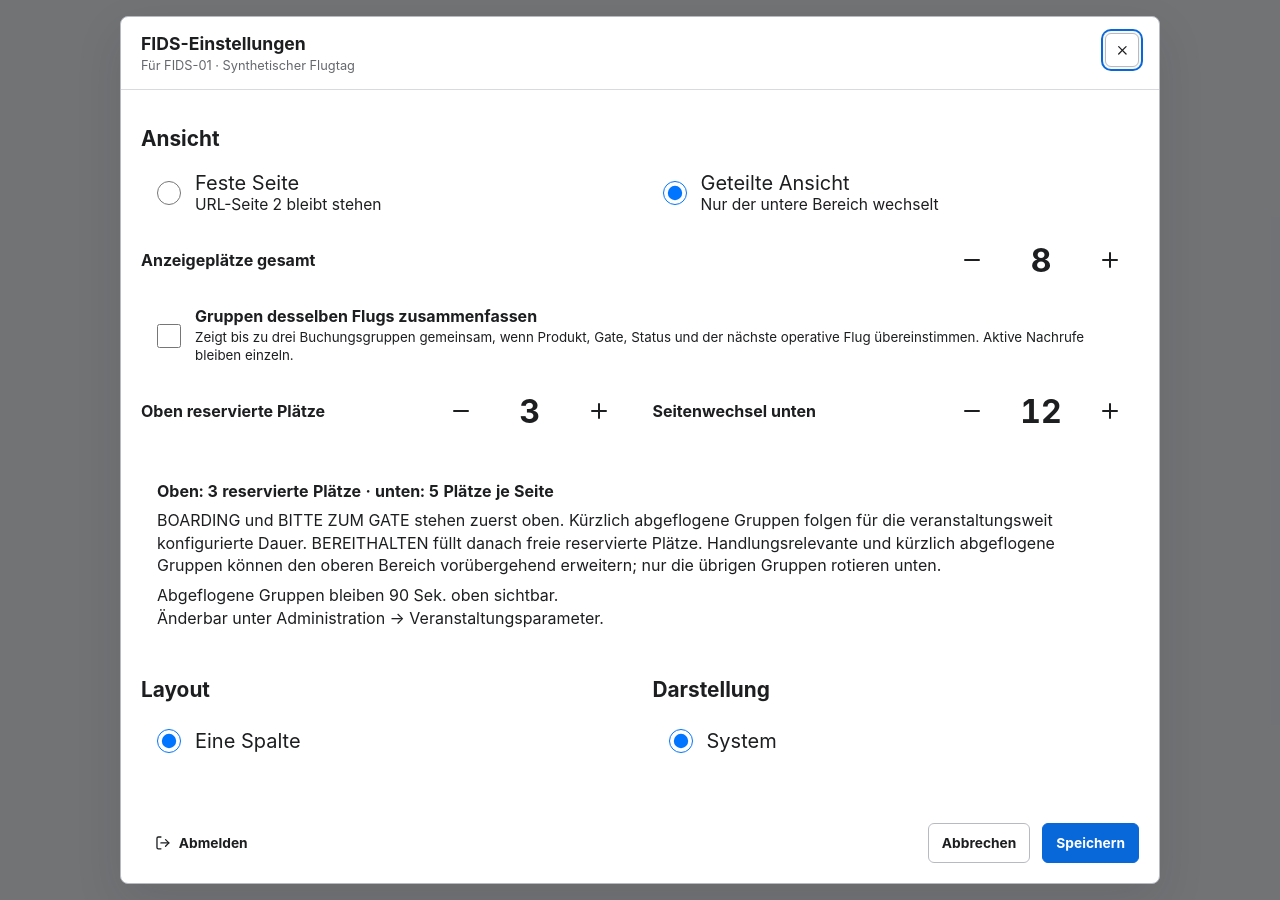
Test: FIDS settings dialog › keeps the dialog open and reports a rejected save
Click the button "Speichern".
click(1091, 843)  # box 1042,823 -> 1139,863
(page scrolled)
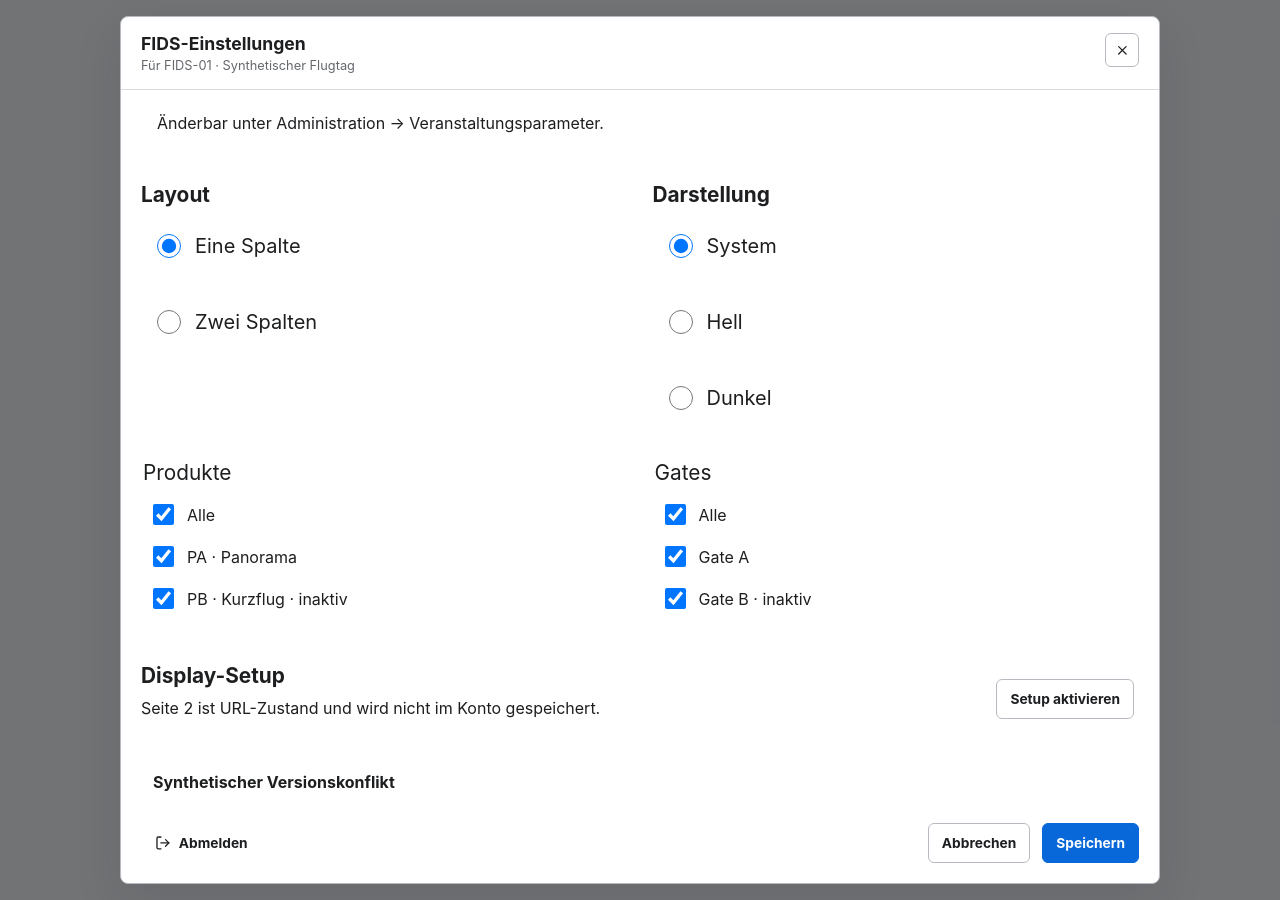
Check: the message reads "Synthetischer Versionskonflikt", box 153,772 -> 395,792
